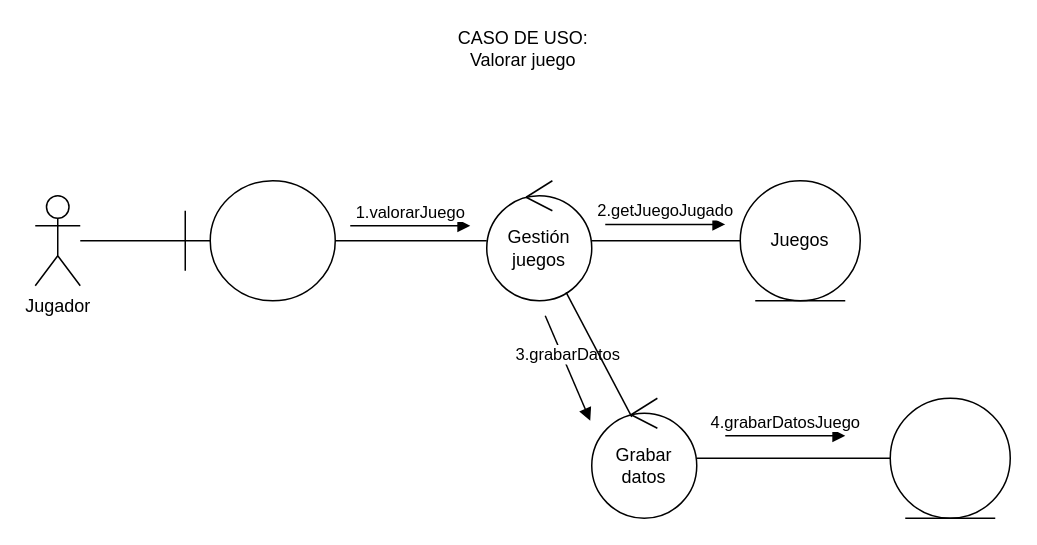
Some shapes in this 1037 by 545 pixel diagram are drawn without their labels. The shapes that lost their labels are listed below. From the top down, each one's centre as x and y in pixels, then its label:
At (x=259, y=240): "Menú principal".
At (x=949, y=457): "Estadisticas juego".
